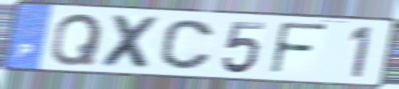1: (346, 25, 373, 80)
5: (219, 20, 270, 74)
C: (157, 18, 217, 72)
F: (267, 20, 330, 78)
Q: (48, 12, 105, 68)
X: (98, 12, 164, 72)
